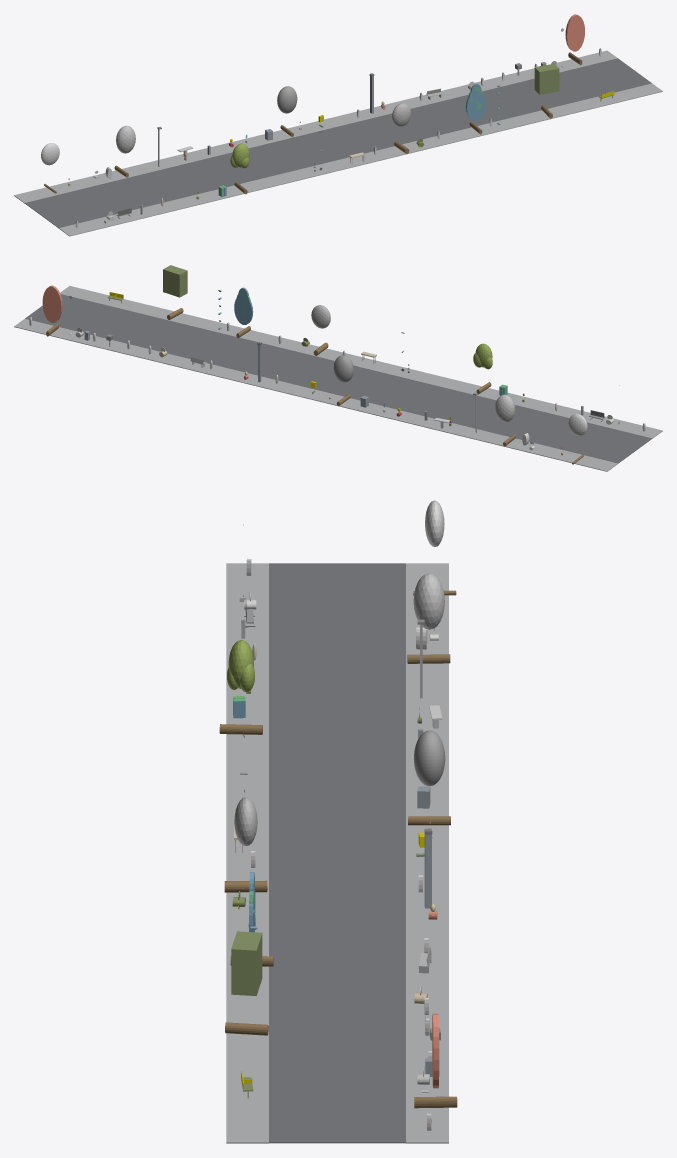
3 views of the same model, one above another, from view 1: azimuth 30°, elevation 25°; view 2: azimuth 150°, elevation 25°; view 3: azimuth 270°, elevation 25° (orthographic). The views are drawn at different scales.
Visible parts, largest first — view 1: road_slab, sidewalk_left, sidewalk_right, inst_0024, inst_0025, inst_0023, inst_0019, inst_0021, inst_0020, inst_0022, inst_0018; view 2: road_slab, sidewalk_right, sidewalk_left, inst_0024, inst_0025, inst_0023, inst_0019, inst_0021, inst_0020, inst_0022, inst_0018; view 3: road_slab, sidewalk_left, sidewalk_right, inst_0024, inst_0021, inst_0019, inst_0020, inst_0022, inst_0025.
Part boxes in pixels (bbox=[...]): road_slab: bbox=[24, 58, 651, 228]; sidewalk_left: bbox=[59, 83, 662, 236]; sidewalk_right: bbox=[14, 50, 617, 203]; inst_0024: bbox=[534, 63, 559, 118]; inst_0025: bbox=[565, 14, 584, 65]; inst_0023: bbox=[466, 83, 485, 134]; inst_0019: bbox=[114, 125, 135, 177]; inst_0021: bbox=[277, 86, 297, 137]; inst_0020: bbox=[230, 143, 249, 194]; inst_0022: bbox=[392, 103, 411, 153]; inst_0018: bbox=[41, 143, 59, 193]; road_slab: bbox=[25, 294, 652, 463]; sidewalk_right: bbox=[14, 319, 617, 471]; sidewalk_left: bbox=[60, 286, 662, 438]; inst_0024: bbox=[163, 265, 187, 319]; inst_0025: bbox=[42, 285, 62, 336]; inst_0023: bbox=[234, 287, 253, 338]; inst_0019: bbox=[495, 394, 515, 446]; inst_0021: bbox=[333, 355, 353, 405]; inst_0020: bbox=[473, 343, 492, 394]; inst_0022: bbox=[311, 305, 330, 355]; inst_0018: bbox=[568, 414, 587, 464]; road_slab: bbox=[269, 563, 405, 1143]; sidewalk_left: bbox=[226, 563, 268, 1143]; sidewalk_right: bbox=[406, 563, 448, 1143]; inst_0024: bbox=[225, 931, 268, 1035]; inst_0021: bbox=[408, 730, 450, 825]; inst_0019: bbox=[407, 573, 450, 663]; inst_0020: bbox=[219, 640, 262, 734]; inst_0022: bbox=[224, 797, 267, 892]; inst_0025: bbox=[414, 1013, 457, 1108].
Bounding box in the file's own units: 80 × 6.08 × 13.86.
